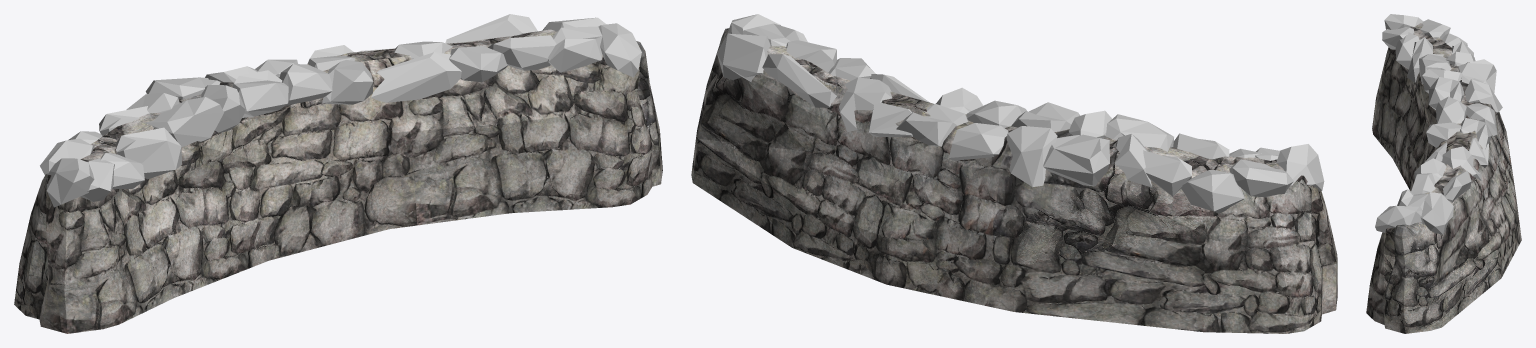
File: Wall_2_LOD1.fbx
3 renders of one model, left to right at view 1: azimuth 30°, elevation 25°; view 2: azimuth 150°, elevation 25°; view 3: azimuth 270°, elevation 25°, orthographic. The views are drawn at different scales.
Visible parts, largest first — view 1: Wall, Rock; view 2: Wall, Rock; view 3: Wall, Rock.
Boxes of the visible parts, <box> form: Wall: <box>14,29,662,333</box>; Rock: <box>40,14,641,207</box>; Wall: <box>691,28,1337,333</box>; Rock: <box>717,14,1324,213</box>; Wall: <box>1366,23,1521,333</box>; Rock: <box>1375,14,1502,234</box>.
Bounding box in the file's own units: 826 × 246 × 208.
